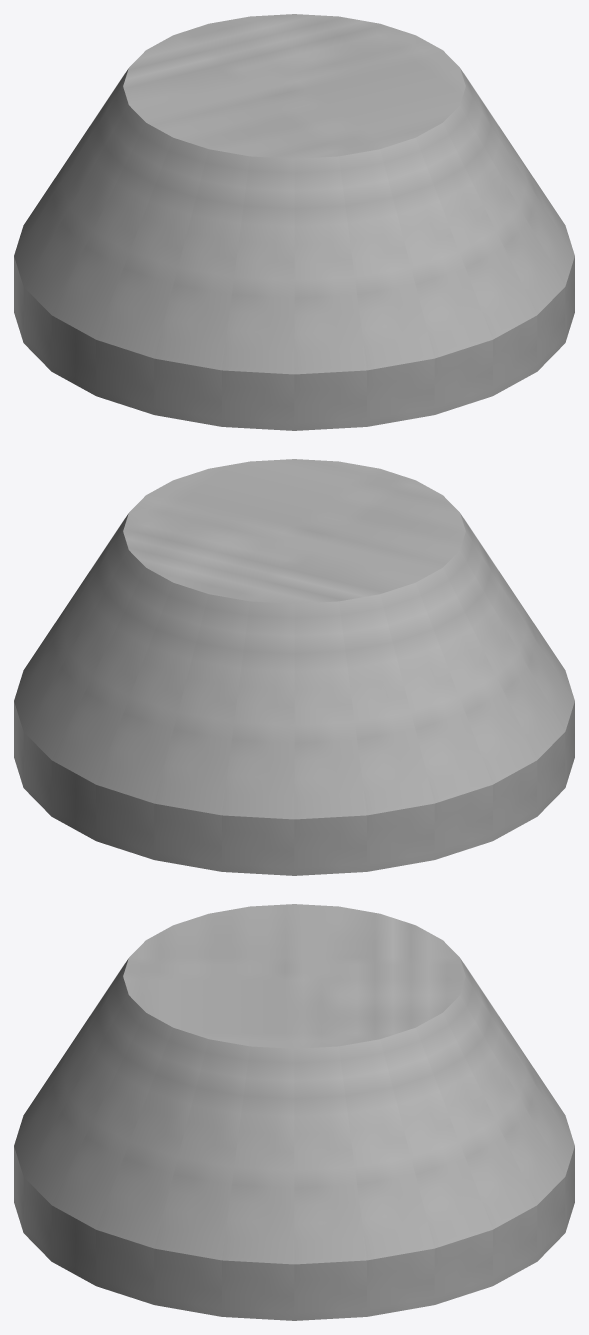
The model's file is elTejo.dae.
3 views of the same model, one above another, from view 1: azimuth 30°, elevation 25°; view 2: azimuth 150°, elevation 25°; view 3: azimuth 270°, elevation 25° (orthographic).
Parts seen in each view (by area): view 1: ElTejo; view 2: ElTejo; view 3: ElTejo.
Part boxes in pixels (x1,y1,x2,y2): ElTejo: (14,14,574,430); ElTejo: (14,459,574,875); ElTejo: (14,904,574,1320).
Bounding box in the file's own units: 0.09 × 0.09 × 0.04.
